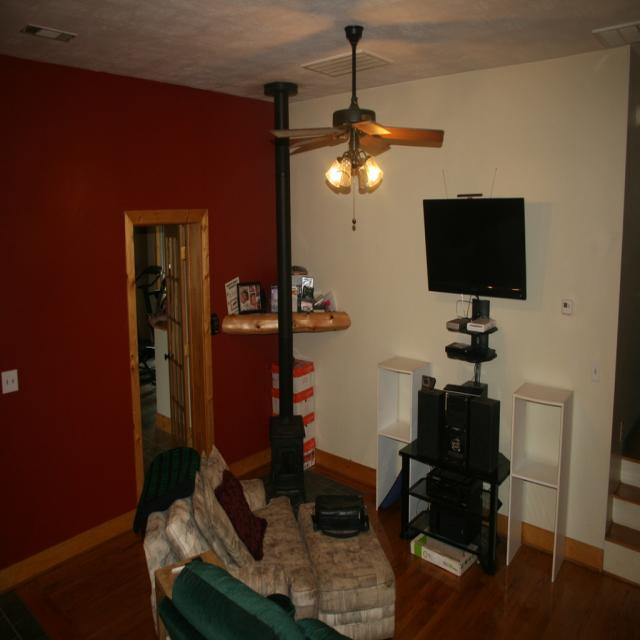bulb_on: (319, 162, 346, 192), (365, 167, 386, 186)
fan_off: (270, 19, 444, 157)
